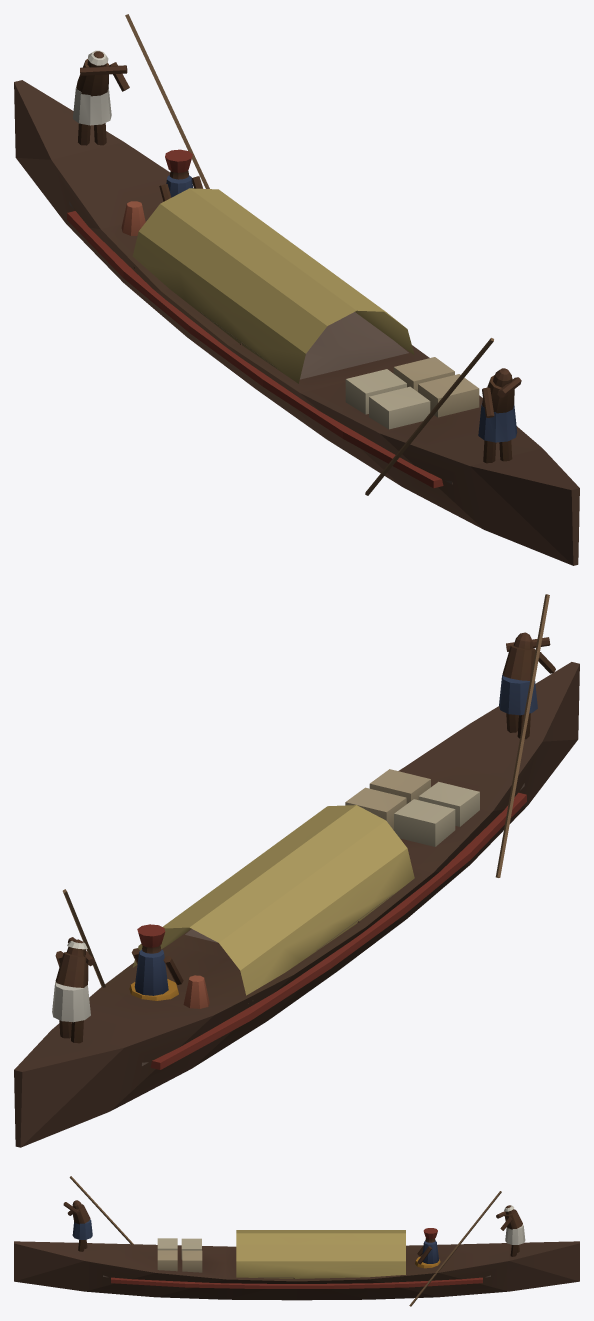
Rendered from boat.glb.
3 renders of one model, top to bottom at view 1: azimuth 30°, elevation 25°; view 2: azimuth 150°, elevation 25°; view 3: azimuth 270°, elevation 25°, orthographic. The views are drawn at different scales.
Visible parts, largest first — view 1: base; view 2: base; view 3: base.
Boxes of the visible parts, x1,y1,x2,y2 form: base: (14, 14, 579, 565); base: (14, 594, 579, 1147); base: (14, 1176, 579, 1306).
Size of the model in its own units: 2.04 by 2.94 by 14.
